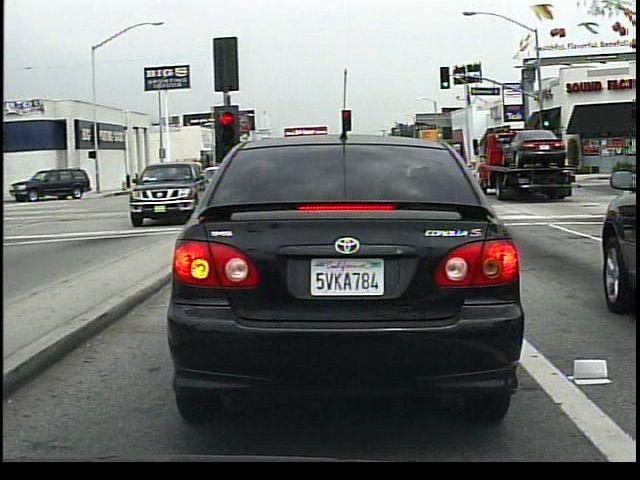person: (177, 171, 199, 196)
